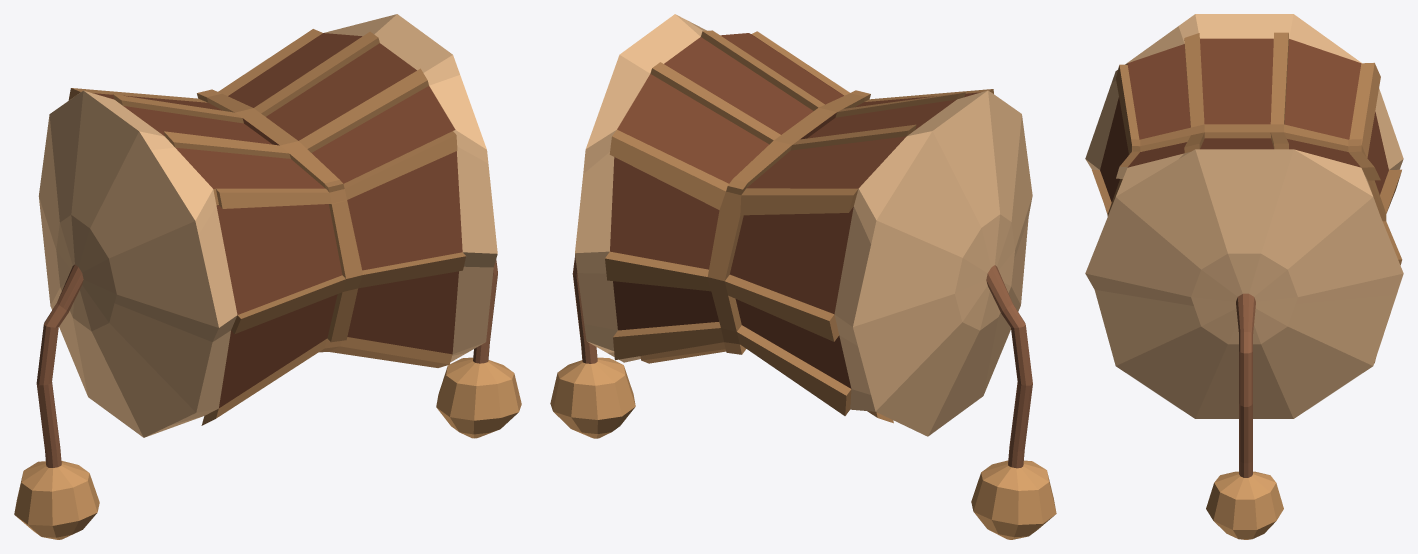
The model's file is tambor.glb.
3 renders of one model, left to right at view 1: azimuth 30°, elevation 25°; view 2: azimuth 150°, elevation 25°; view 3: azimuth 270°, elevation 25°, orthographic. The views are drawn at different scales.
Visible parts, largest first — view 1: Damaru; view 2: Damaru; view 3: Damaru.
Part boxes in pixels (<box>): Damaru: <box>14,14,521,539</box>; Damaru: <box>550,14,1056,539</box>; Damaru: <box>1085,14,1403,539</box>.
Size of the model in its own units: 4.34 by 3.49 by 2.75.
